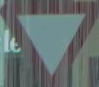Give way: (3, 4, 91, 76)
